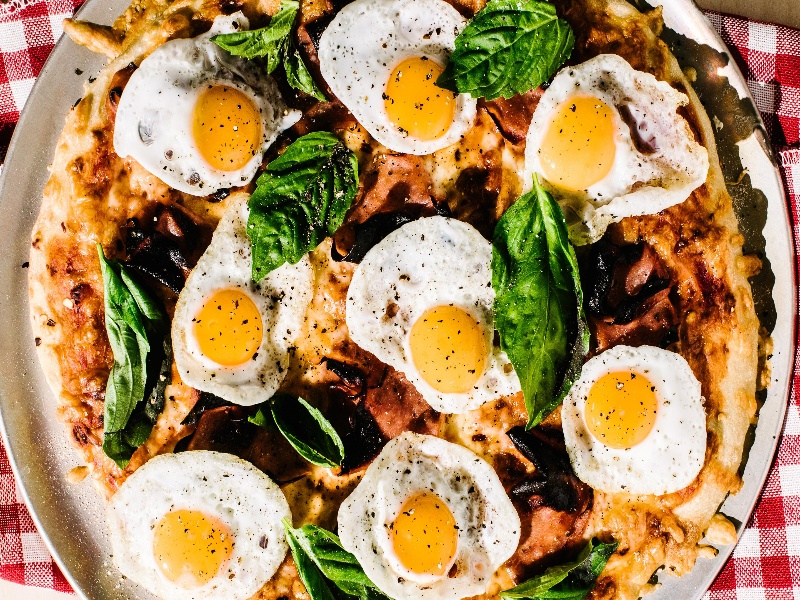oeuf: (386, 281, 498, 402), (528, 84, 645, 199), (122, 496, 249, 595), (362, 47, 467, 153), (579, 358, 675, 465), (185, 280, 278, 387), (171, 78, 271, 177), (371, 484, 471, 581)
